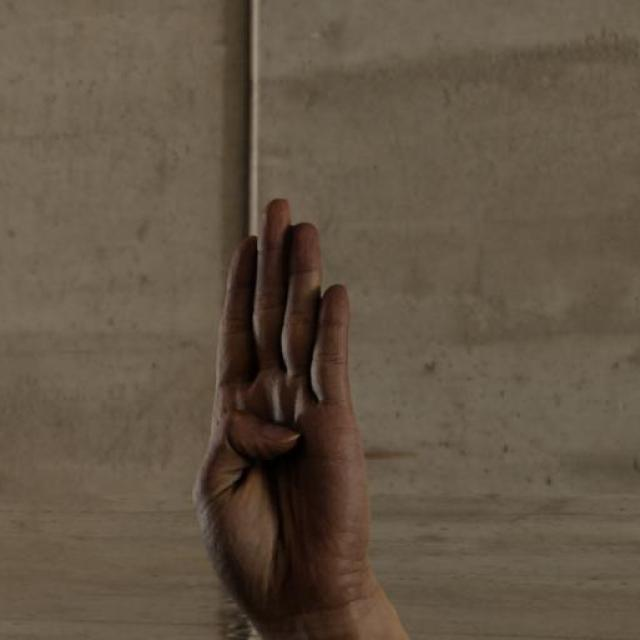B: (165, 186, 398, 640)
